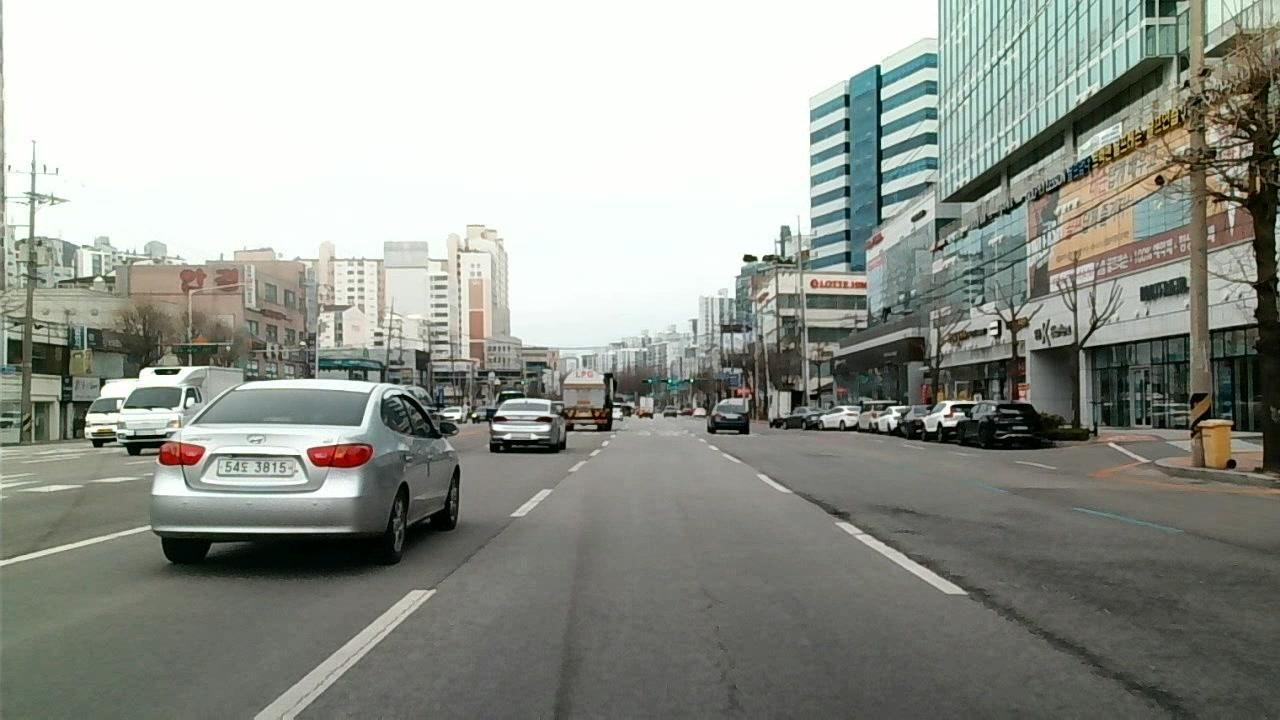banner: (887, 535, 1037, 630), (1049, 627, 1194, 720), (697, 584, 744, 720), (429, 519, 510, 588), (790, 486, 877, 540), (883, 503, 928, 517)
